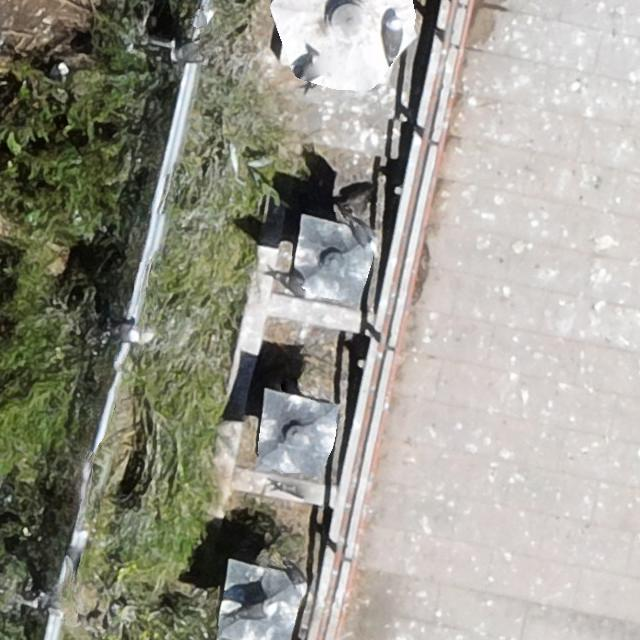umineko: (274, 273, 314, 300), (233, 599, 277, 619), (385, 17, 402, 63), (353, 222, 376, 248), (114, 325, 144, 344), (48, 62, 68, 80)
